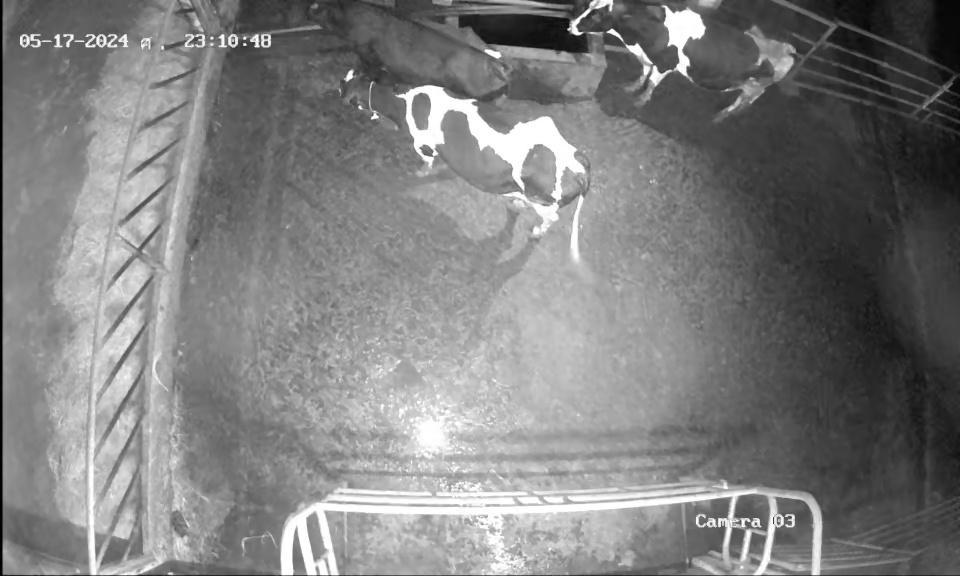stand: (327, 63, 597, 248), (568, 0, 798, 132), (303, 0, 514, 99)
